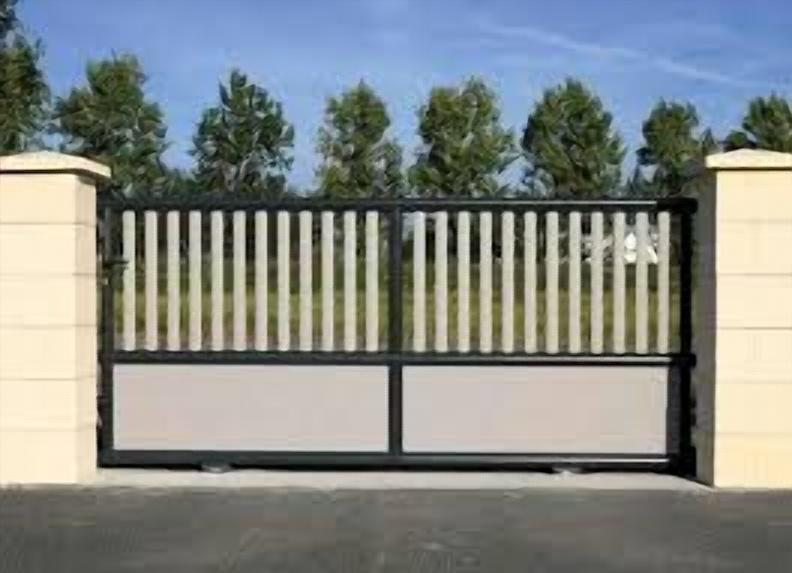Gate: (92, 191, 695, 472)
